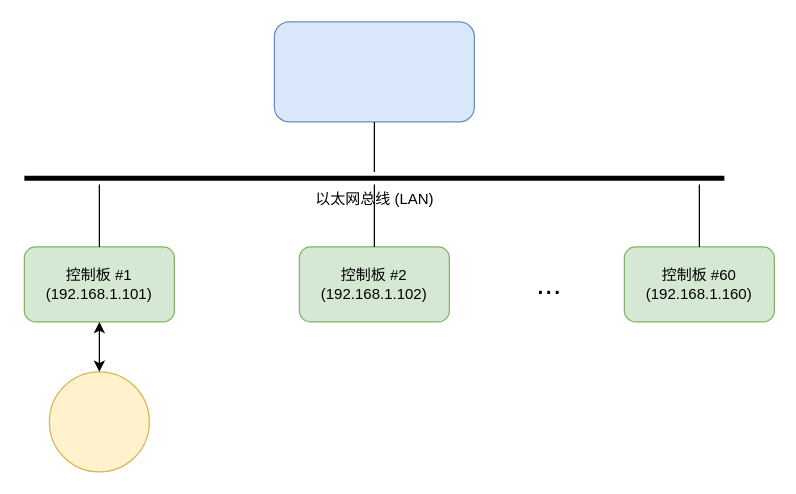
The diagram is 796 pixels wide and 494 high, and some of its shapes have lost their labels. Here are the shapes that lost their labels. From the top down, the centre of each, then its label:
At point 373,71: "测试主机 (PC) Running AgingTest-AI".
At point 98,421: "BMS 通道 1".
